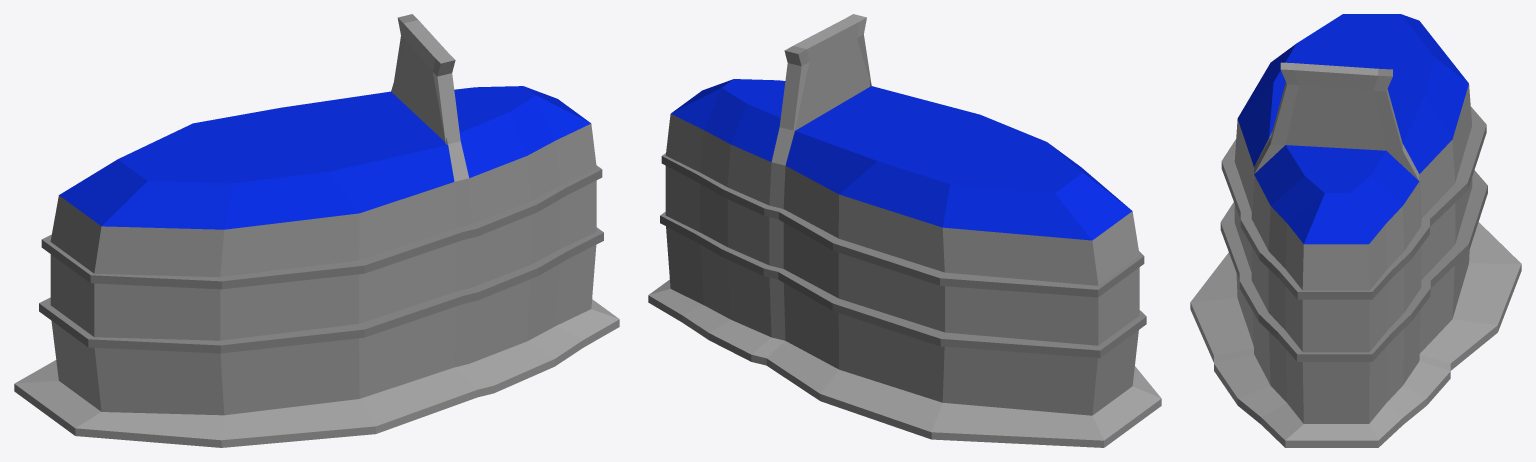
Rendered from p-bld-background-1.glb.
3 renders of one model, left to right at view 1: azimuth 30°, elevation 25°; view 2: azimuth 150°, elevation 25°; view 3: azimuth 270°, elevation 25°, orthographic. The views are drawn at different scales.
Parts seen in each view (by area): view 1: Cube; view 2: Cube; view 3: Cube.
Part boxes in pixels (x1=…): Cube: x1=14, y1=14, x2=619, y2=447; Cube: x1=648, y1=14, x2=1161, y2=447; Cube: x1=1190, y1=14, x2=1521, y2=447.
Size of the model in its own units: 35.2 by 20 by 20.02.
